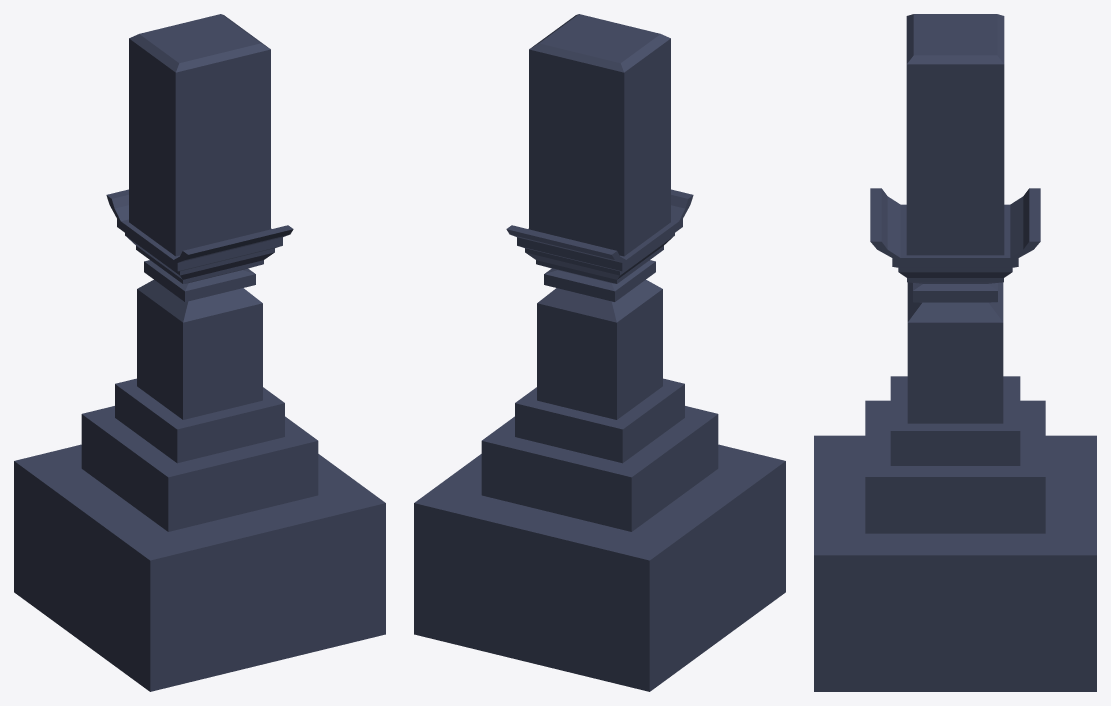
File: J3Tomb.fbx
3 renders of one model, left to right at view 1: azimuth 30°, elevation 25°; view 2: azimuth 150°, elevation 25°; view 3: azimuth 270°, elevation 25°, orthographic. The views are drawn at different scales.
Visible parts, largest first — view 1: J3Tomb; view 2: J3Tomb; view 3: J3Tomb.
Boxes of the visible parts, bbox=[...] form: J3Tomb: bbox=[14, 14, 385, 691]; J3Tomb: bbox=[414, 14, 785, 691]; J3Tomb: bbox=[814, 14, 1096, 691].
Size of the model in its own units: 200 by 466 by 200.
